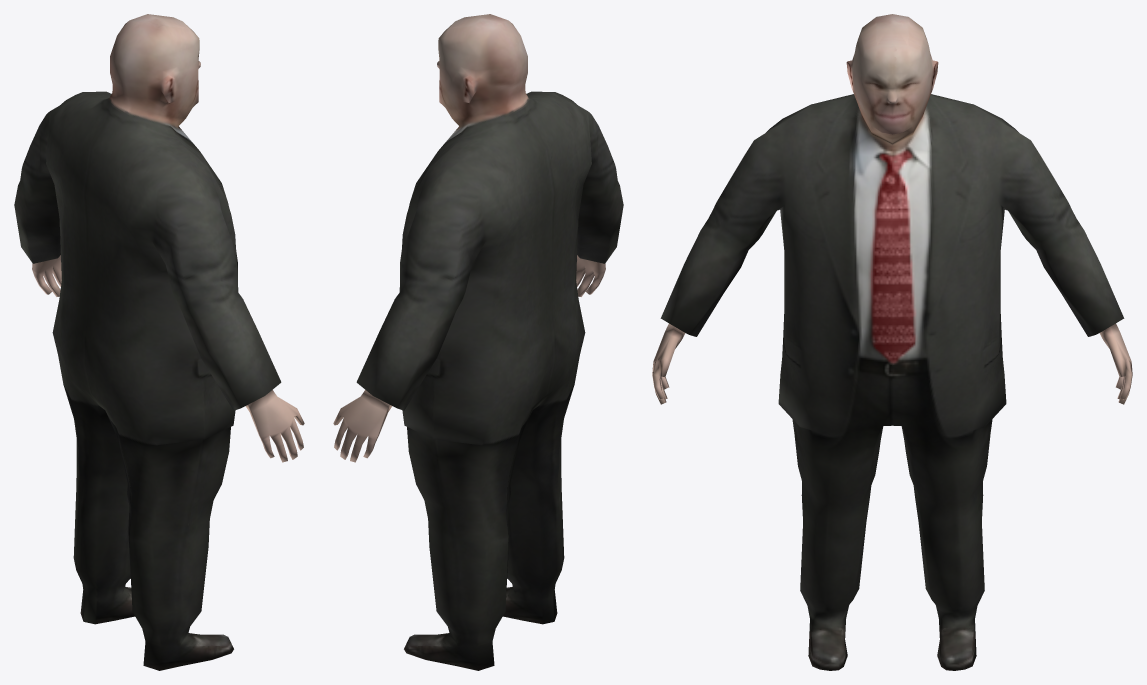
Rendered from Character_Male_47.fbx.
The picture shows the model from 3 angles, left to right: view 1: azimuth 30°, elevation 25°; view 2: azimuth 150°, elevation 25°; view 3: azimuth 270°, elevation 25°; orthographic projection.
Visible parts, largest first — view 1: Character_Male_47; view 2: Character_Male_47; view 3: Character_Male_47.
Part boxes in pixels (bbox=[...]): Character_Male_47: bbox=[14, 14, 304, 670]; Character_Male_47: bbox=[333, 14, 623, 670]; Character_Male_47: bbox=[652, 14, 1132, 670].
Size of the model in its own units: 0.4045 by 1.72 by 1.2.
